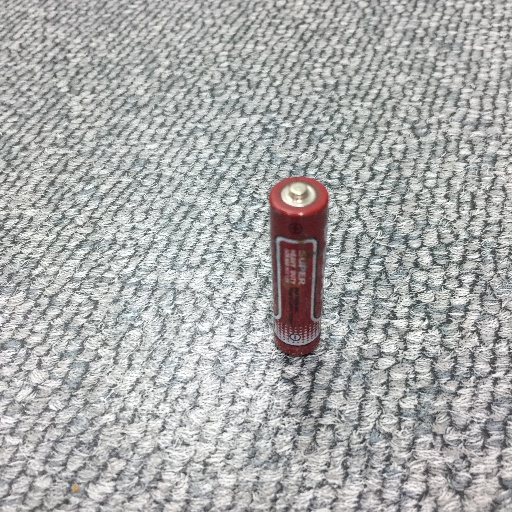Battery_0: (263, 163, 342, 370)
